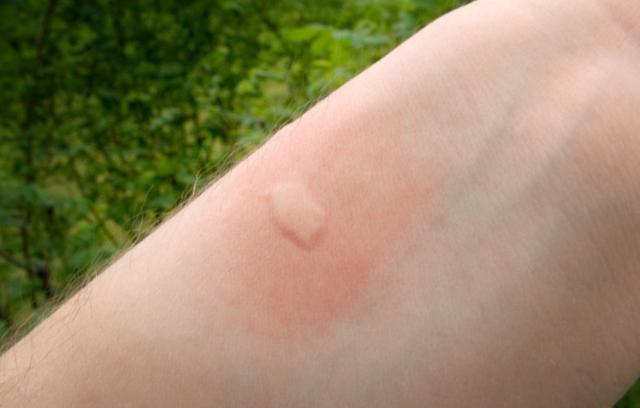Mosquito: (257, 168, 339, 258)
